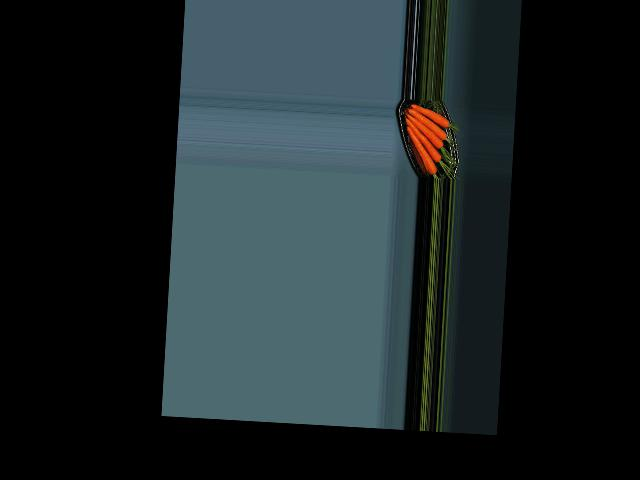carrot: (409, 103, 450, 124)
